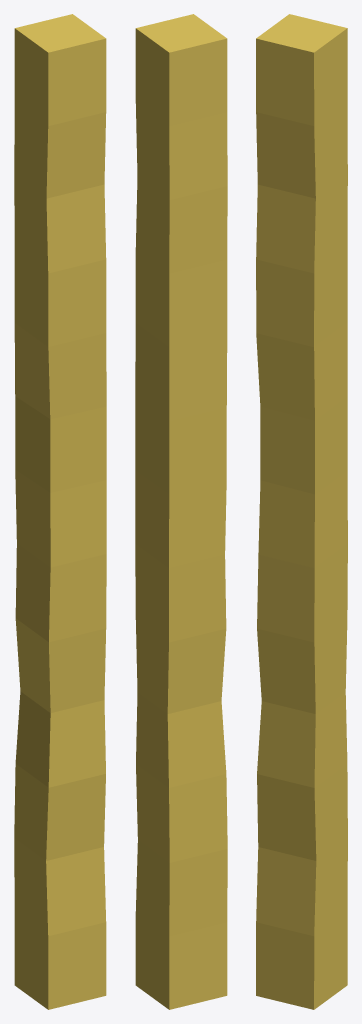
The model's file is 右木柱.fbx.
3 views of the same model, side by side, from view 1: azimuth 30°, elevation 25°; view 2: azimuth 210°, elevation 25°; view 3: azimuth 330°, elevation 25° (orthographic).
Visible parts, largest first — view 1: R.wood.1; view 2: R.wood.1; view 3: R.wood.1.
Part boxes in pixels (left/top/right/bottom): R.wood.1: left=14, top=14, right=106, bottom=1009; R.wood.1: left=135, top=14, right=227, bottom=1009; R.wood.1: left=256, top=14, right=347, bottom=1009.
Bounding box in the file's own units: 65.69 × 1022 × 65.84.
